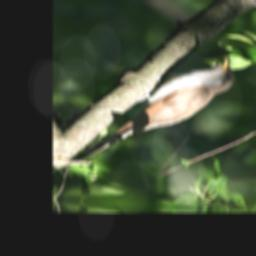Cuckoo: (66, 45, 238, 177)
